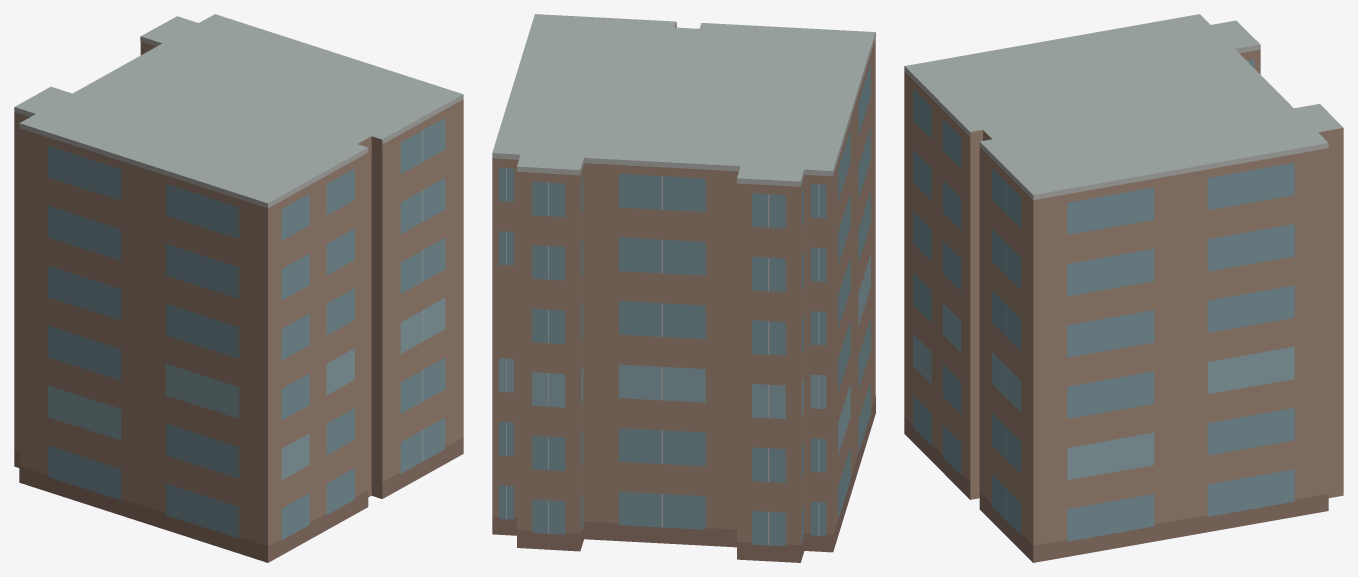
Rendered from survey-upis-32853866.glb.
The picture shows the model from 3 angles, left to right: view 1: azimuth 30°, elevation 25°; view 2: azimuth 150°, elevation 25°; view 3: azimuth 270°, elevation 25°; orthographic projection. The views are drawn at different scales.
Visible parts, largest first — view 1: survey-upis-32853866.tmp; view 2: survey-upis-32853866.tmp; view 3: survey-upis-32853866.tmp.
Boxes of the visible parts, <box> form: survey-upis-32853866.tmp: <box>14,14,463,562</box>; survey-upis-32853866.tmp: <box>492,14,875,562</box>; survey-upis-32853866.tmp: <box>904,14,1343,562</box>.
Size of the model in its own units: 18.69 by 17.7 by 19.16.
